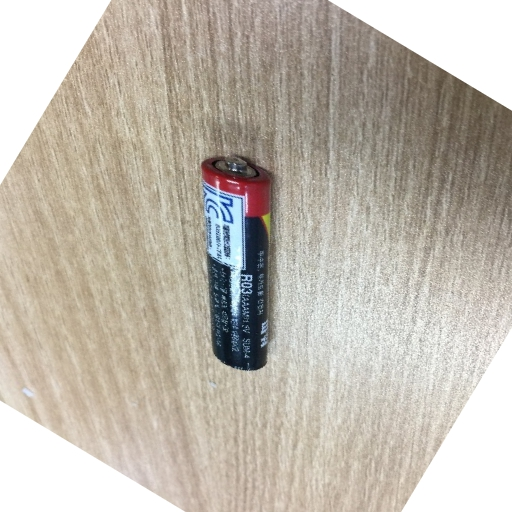Battery_0: (195, 136, 293, 387)
